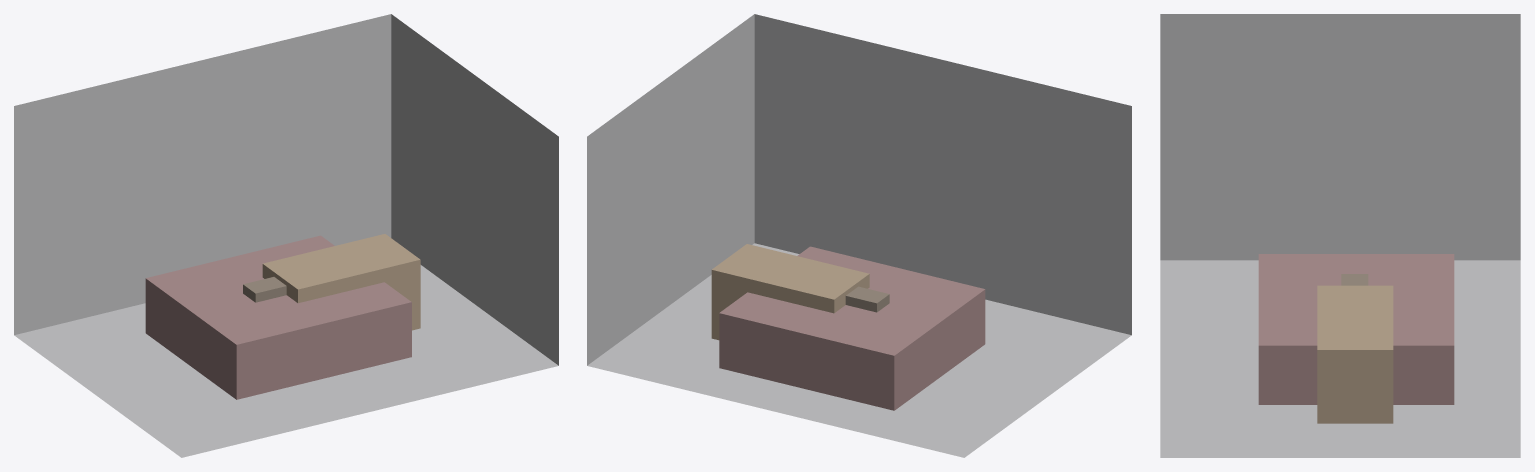
Rendered from current_layout.glb.
3 renders of one model, left to right at view 1: azimuth 30°, elevation 25°; view 2: azimuth 150°, elevation 25°; view 3: azimuth 270°, elevation 25°, orthographic. The views are drawn at different scales.
Parts seen in each view (by area): view 1: room, bed, desk, suitcase; view 2: room, bed, desk, suitcase; view 3: room, bed, desk.
Part boxes in pixels (left/top/right/bottom): room: left=14, top=14, right=558, bottom=457; bed: left=145, top=235, right=411, bottom=399; desk: left=262, top=234, right=420, bottom=330; suitcase: left=243, top=277, right=286, bottom=302; room: left=587, top=14, right=1131, bottom=457; bed: left=719, top=246, right=985, bottom=410; desk: left=711, top=244, right=869, bottom=340; suitcase: left=845, top=286, right=889, bottom=312; room: left=1160, top=14, right=1520, bottom=457; bed: left=1258, top=254, right=1454, bottom=404; desk: left=1317, top=285, right=1393, bottom=423.
Bounding box in the file's own units: 4.31 × 2.5 × 3.31.
